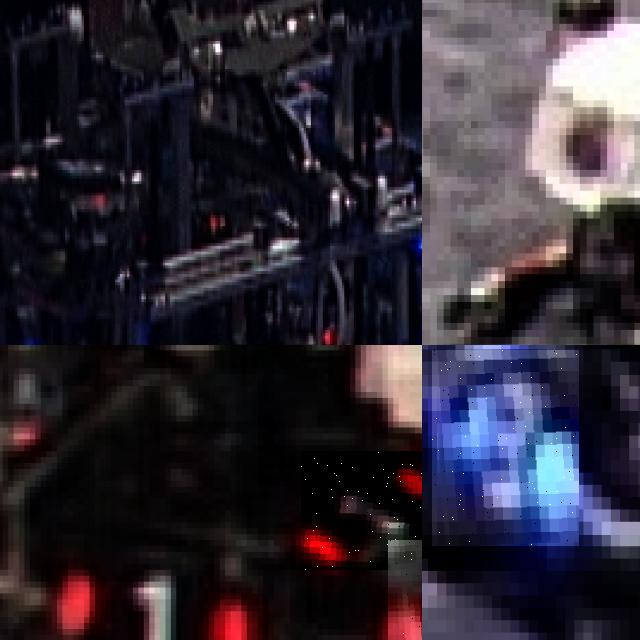B3: (432, 350, 579, 546)
R1: (40, 551, 252, 640), (301, 451, 422, 569), (387, 540, 422, 640)
